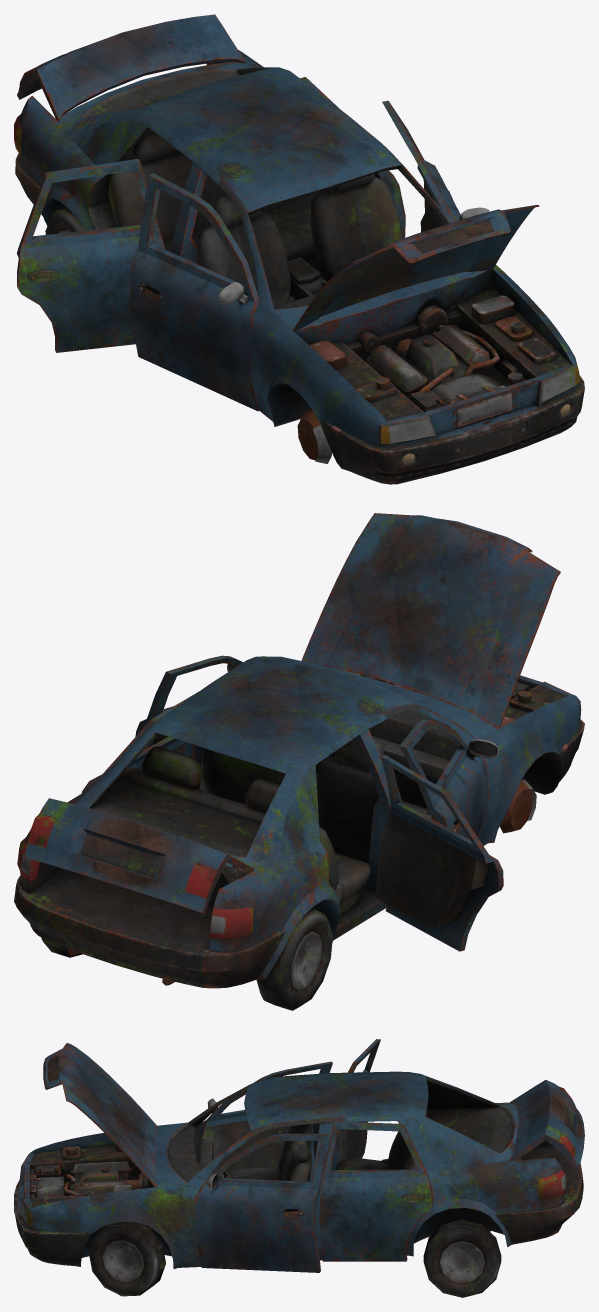
Rendered from sedan-1.fbx.
The picture shows the model from 3 angles, top to bottom: view 1: azimuth 30°, elevation 25°; view 2: azimuth 150°, elevation 25°; view 3: azimuth 270°, elevation 25°; orthographic projection. The views are drawn at different scales.
Parts seen in each view (by area): view 1: KUZA, Seats.001, ON QAPI, ARXA QAPI, Engine.001, BAQAJ, KAPOT, ON QAPI.001, SALON, TEKER.002, TEKER.003; view 2: KUZA, KAPOT, Seats.001, ARXA QAPI, BAQAJ, ON QAPI, TEKER.003, SALON, ON QAPI.001, TEKER.002, ARXA QAPI.001, Engine.001; view 3: KUZA, ON QAPI.001, ARXA QAPI.001, KAPOT, TEKER.001, TEKER.004, BAQAJ, ON QAPI, Engine.001, Seats.001, SALON, ARXA QAPI.
Boxes of the visible parts, x1,y1,x2,y2 form: KUZA: (14,50,584,484); Seats.001: (108,129,402,306); ON QAPI: (129,173,259,411); ARXA QAPI: (17,159,165,352); Engine.001: (309,295,555,411); BAQAJ: (17,14,245,121); KAPOT: (293,205,539,331); ON QAPI.001: (382,100,489,232); SALON: (274,257,326,309); TEKER.002: (297,410,331,463); TEKER.003: (45,207,84,234); KUZA: (14,656,584,988); KAPOT: (301,513,560,728); Seats.001: (120,737,431,915); ARXA QAPI: (375,755,503,951); BAQAJ: (23,798,253,913); ON QAPI: (399,719,498,838); TEKER.003: (256,908,332,1010); SALON: (319,710,458,826); ON QAPI.001: (135,655,243,791); TEKER.002: (499,779,536,833); ARXA QAPI.001: (81,692,197,793); Engine.001: (333,668,549,727); KUZA: (14,1071,583,1268); ON QAPI.001: (195,1133,332,1272); ARXA QAPI.001: (319,1122,432,1261); KAPOT: (43,1043,157,1187); TEKER.001: (423,1219,501,1297); TEKER.004: (88,1221,165,1296); BAQAJ: (509,1080,584,1168); ON QAPI: (198,1061,332,1181); Engine.001: (35,1145,150,1203); Seats.001: (223,1109,428,1181); SALON: (168,1124,237,1192); ARXA QAPI: (330,1039,380,1169).
Bounding box in the file's own units: 1273 × 776 × 2134.
Materials: 1 (1 with a texture image).
